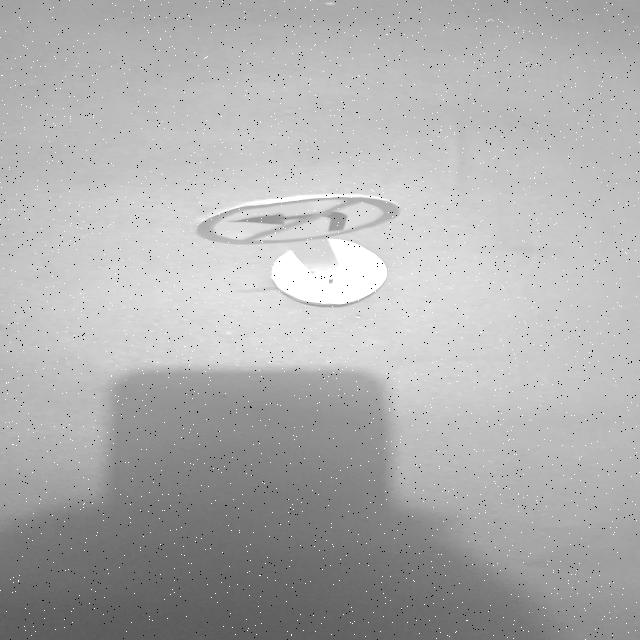Dilarang Belok Kiri: (198, 198, 400, 245)
